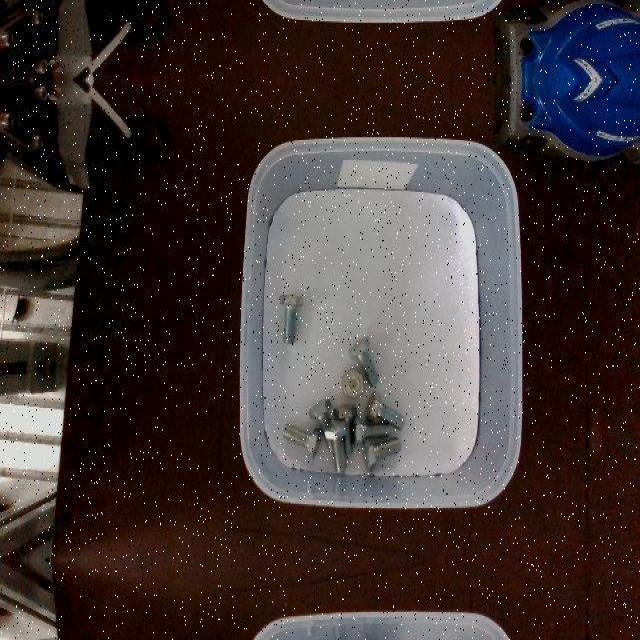screw: (365, 391, 405, 429), (348, 337, 378, 387), (282, 423, 322, 457), (323, 418, 347, 474), (363, 435, 402, 469), (279, 294, 303, 344), (342, 367, 364, 397)
